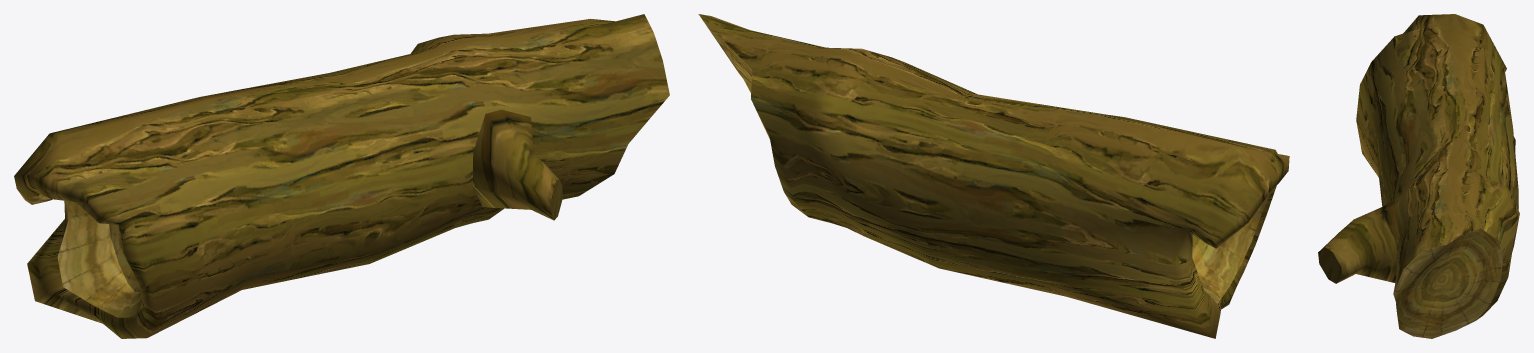
File: hut_env_cover_log.glb
3 views of the same model, side by side, from view 1: azimuth 30°, elevation 25°; view 2: azimuth 150°, elevation 25°; view 3: azimuth 270°, elevation 25° (orthographic). The views are drawn at different scales.
Parts seen in each view (by area): view 1: hut_env_cover; view 2: hut_env_cover; view 3: hut_env_cover.
Boxes of the visible parts, x1=… form: hut_env_cover: x1=14, y1=14, x2=669, y2=338; hut_env_cover: x1=698, y1=14, x2=1289, y2=338; hut_env_cover: x1=1318, y1=14, x2=1519, y2=338.
Bounding box in the file's own units: 0.5794 × 0.1749 × 0.2067.
1 material, 1 textured.
